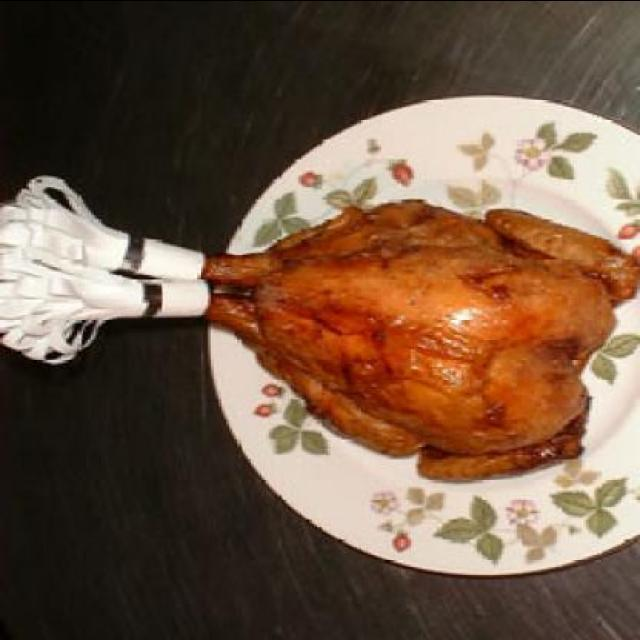Chicken roast: (144, 206, 622, 468)
